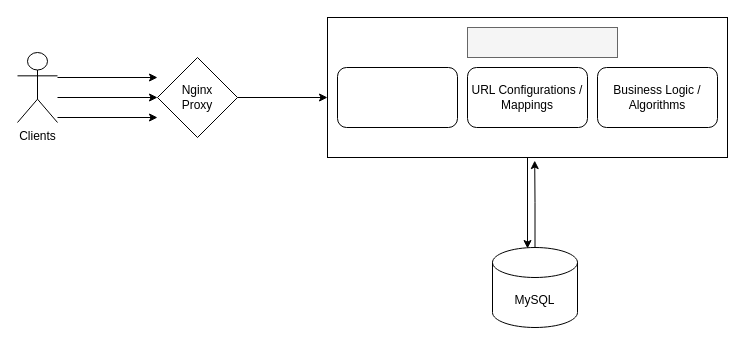
Some shapes in this 745 by 345 pixel diagram are drawn without their labels. The shapes that lost their labels are listed below. From the top down, each one's centre as x and y in pixels, then its label:
[542,42]: Golang Microservice
[397,97]: Middleware / Authorization
